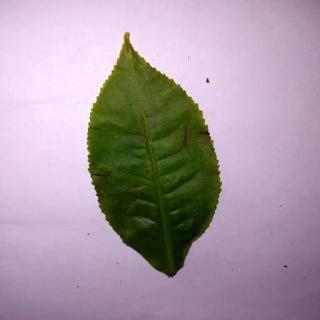Bird Eye Spot: (87, 33, 221, 278)
